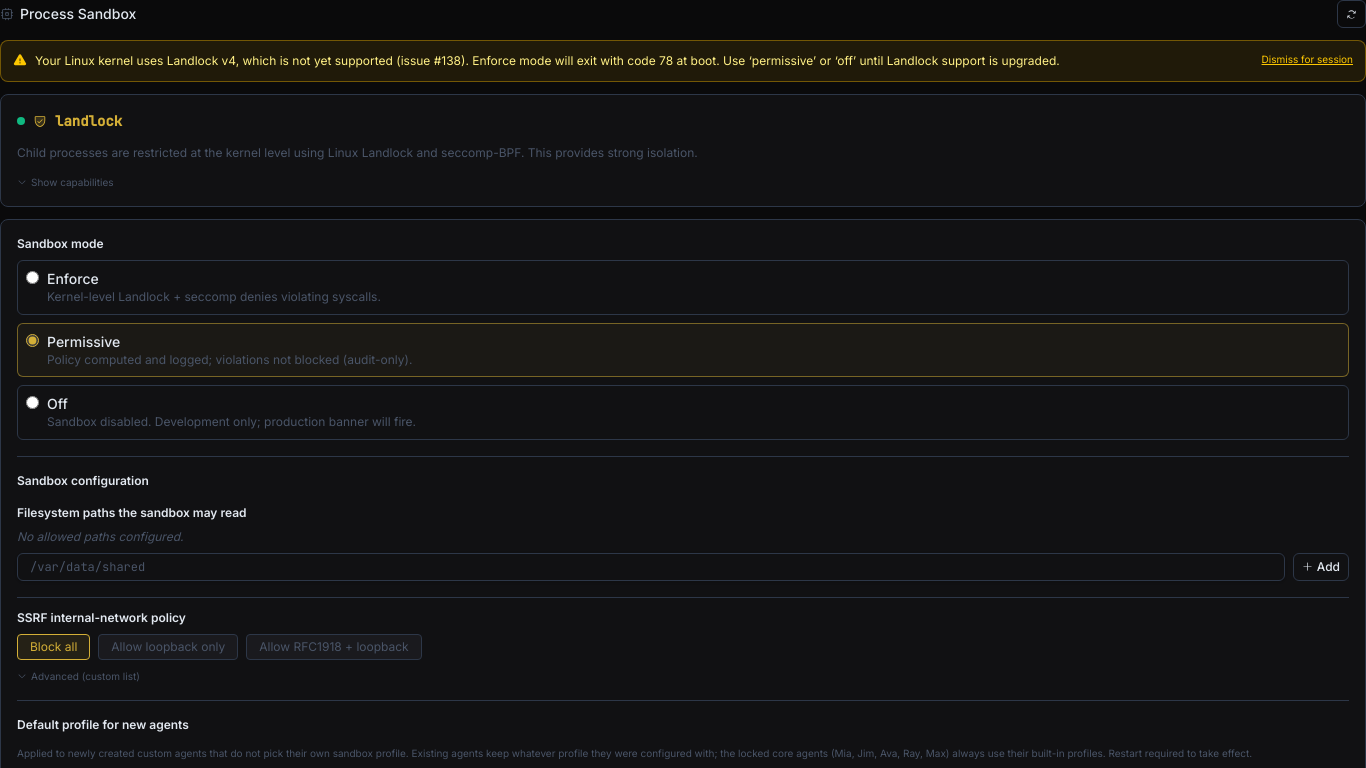
mode radio › cancelling enforce modal reverts radio selection
The width and height of the screenshot is (1366, 768).
Click the radio button with aria-label "sandbox mode: enforce" at (32, 278), box [26, 271, 39, 284]
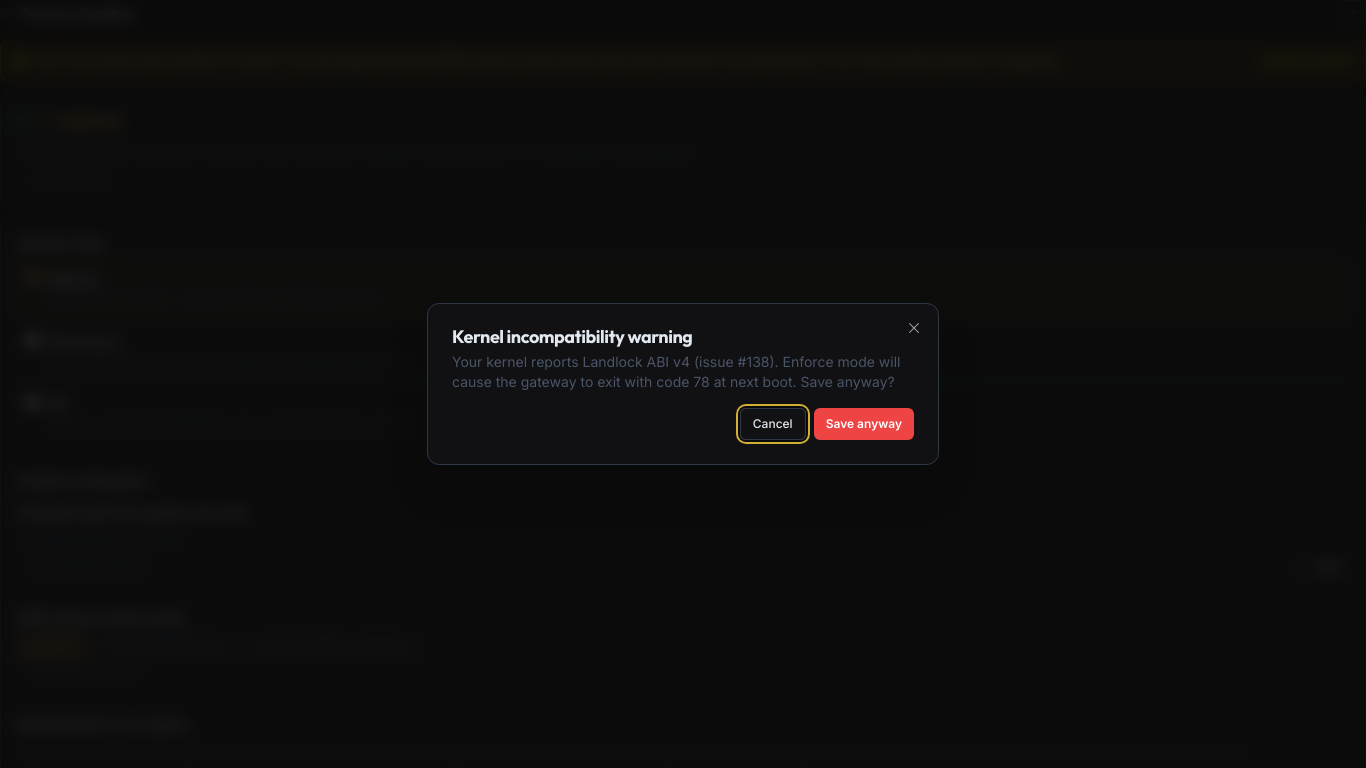
Now the dialog is shown, box [427, 303, 939, 465]
Note: Cancel — should revert to permissive, PUT not called
Click the button "Cancel" at (773, 424), box [740, 408, 806, 440]
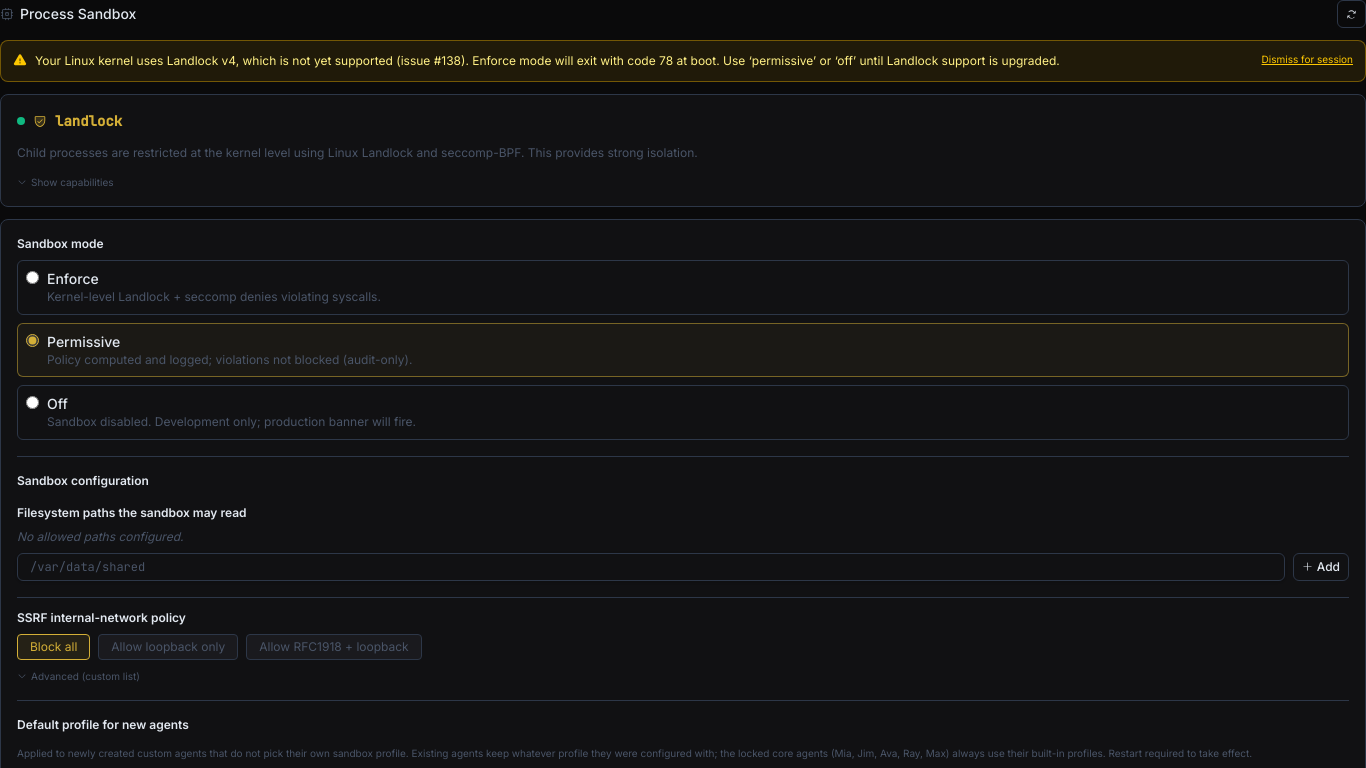
Now the dialog is gone
Now the radio button with aria-label "sandbox mode: permissive" is checked, box [26, 334, 39, 346]
